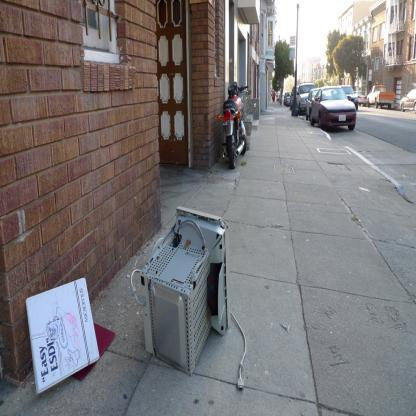Car: (335, 82, 360, 112), (298, 84, 317, 112), (402, 86, 416, 112), (357, 90, 368, 108), (285, 92, 294, 106)
